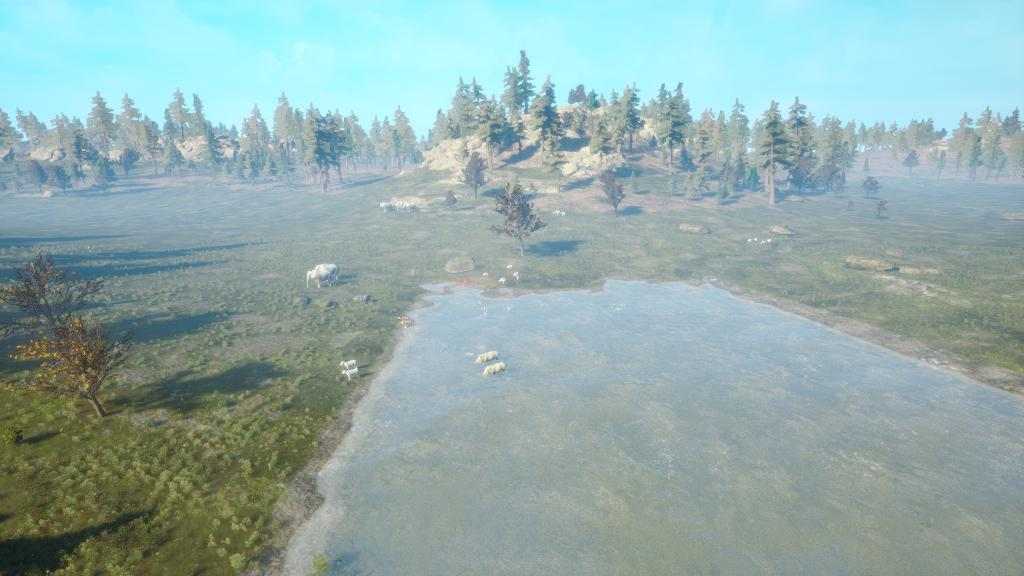Fire: (453, 273, 484, 293)
elephant: (299, 256, 346, 295)
lion: (391, 312, 419, 332)
pig: (499, 263, 528, 293)
rhinoceros: (470, 348, 517, 389)
zebra: (333, 349, 368, 388)
